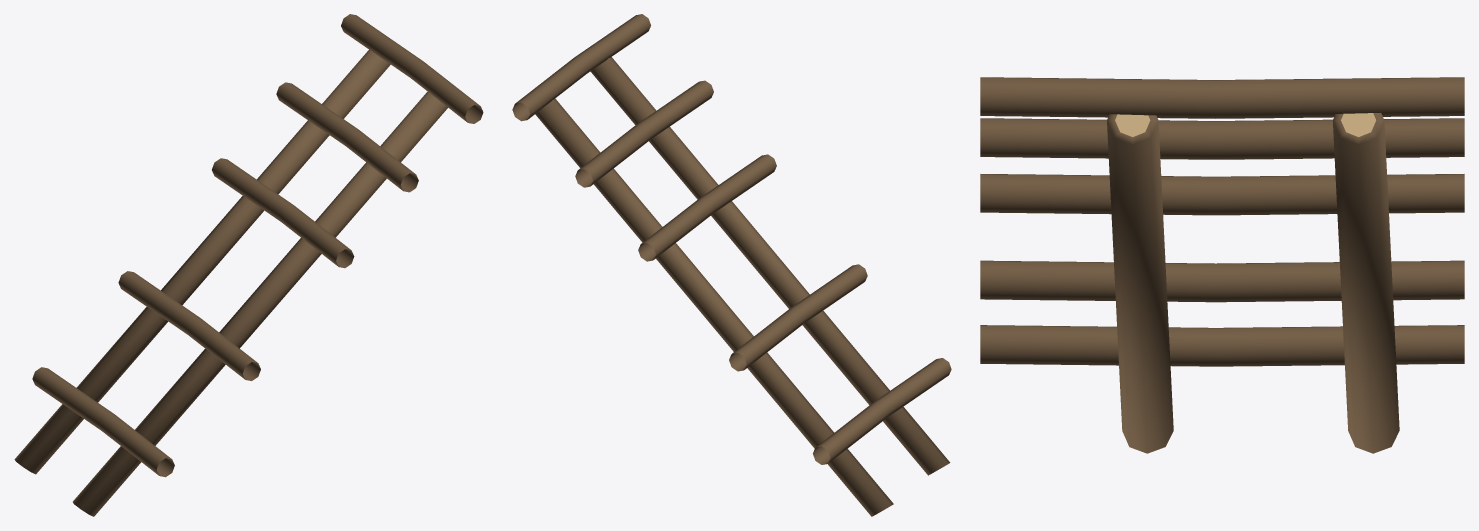
File: rpgpp_ag_roof_support_01_9x4x3_half_a.fbx
3 renders of one model, left to right at view 1: azimuth 30°, elevation 25°; view 2: azimuth 150°, elevation 25°; view 3: azimuth 270°, elevation 25°, orthographic. The views are drawn at different scales.
Parts seen in each view (by area): view 1: rpgpp_ag_roof_support_01_9x4x3_half_a; view 2: rpgpp_ag_roof_support_01_9x4x3_half_a; view 3: rpgpp_ag_roof_support_01_9x4x3_half_a.
Boxes of the visible parts, x1,y1,x2,y2 form: rpgpp_ag_roof_support_01_9x4x3_half_a: (14,14,483,516); rpgpp_ag_roof_support_01_9x4x3_half_a: (512,14,951,516); rpgpp_ag_roof_support_01_9x4x3_half_a: (980,77,1464,453).
Bounding box in the file's own units: 5.24 × 4.77 × 3.
